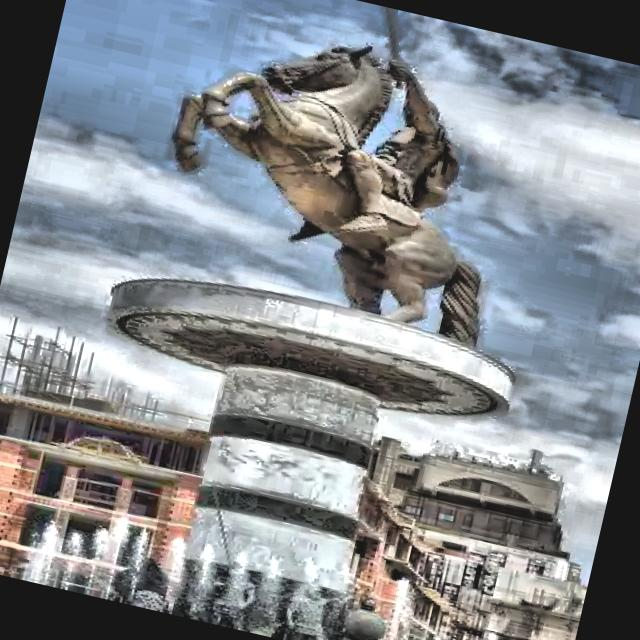alexander the great monument: (31, 0, 601, 640)
